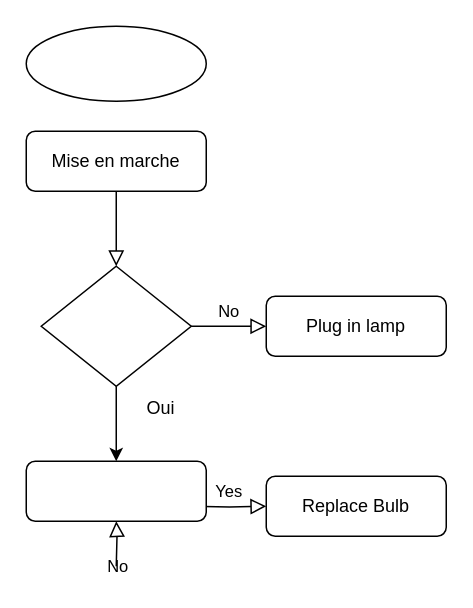
Image size: 473x608. Some labels were removed from this diagram. Each missing label, with the centre of its shape:
"Attendre 1µs" belongs at point (115, 490).
"U>U_seuil?" belongs at point (115, 325).
